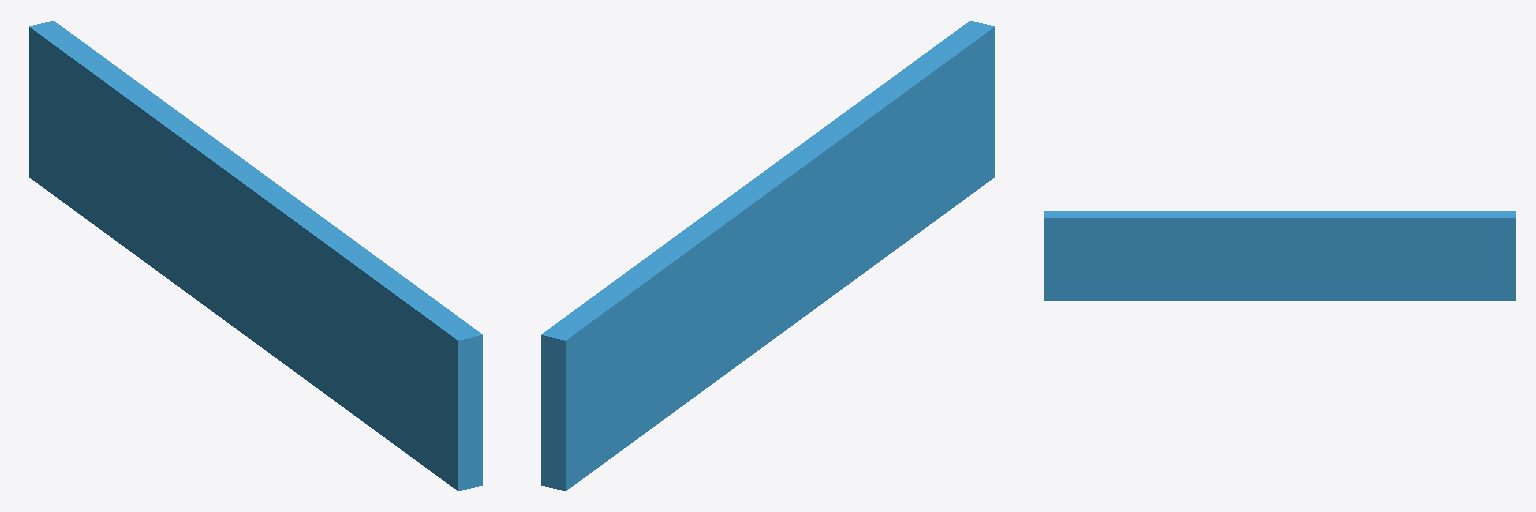
URDF robot description (box_60):
<?xml version="1.0" encoding="utf-8"?>    
    
    <robot name="box_60">
        <link name="box_60">    
            <fem>
                <origin rpy="0.0 0.0 0.0" xyz="0 0 0" />
                <density value="100" />
                <youngs value="1021"/>
                <poissons value="0.3" />
                <damping value="0.0" />
                <attachDistance value="0.01" />
                <tetmesh filename="[local-path]/sim_data/Custom/Custom_mesh/multi_box_1kPa/box_60.tet" />
                <scale value="0.5"/>
            </fem>
        </link>

        <link name="fix_frame">
            <visual>
                <origin xyz="-10.1 0.0 0.0"/>              
                <geometry>
                    <box size="0.005 0.15 0.029037197397459334"/>
                </geometry>
            </visual>
            <collision>
                <origin xyz="-0.1 0.0 0.0"/>              
                <geometry>
                    <box size="0.005 0.15 0.029037197397459334"/>
                </geometry>
            </collision>
            <inertial>
                <mass value="500000"/>
                <inertia ixx="0.05" ixy="0.0" ixz="0.0" iyy="0.05" iyz="0.0" izz="0.05"/>
            </inertial>
        </link>
        
        <joint name = "attach" type = "fixed">
            <origin xyz = "0.0 0.0 0.0" rpy = "0 0 0"/>
            <parent link ="box_60"/>
            <child link = "fix_frame"/>
        </joint>  




    </robot>
    

--- Render facts (derived) ---
Views: 3 orthographic renders of the robot side by side, from view 1: azimuth 30°, elevation 25°; view 2: azimuth 150°, elevation 25°; view 3: azimuth 270°, elevation 25°.
Robot: box_60 — 2 links, 1 joints (1 fixed); root link box_60; default pose: every joint at zero.
Links seen in each view (by area): view 1: fix_frame; view 2: fix_frame; view 3: fix_frame.
Boxes of the visible links, box(x1,y1,x2,y2) form: fix_frame: box(29, 21, 482, 490); fix_frame: box(541, 21, 994, 490); fix_frame: box(1044, 211, 1515, 300).
Bounding box of the posed robot: 0.005 × 0.15 × 0.029 m (x, y, z).
Geometry: primitives only (box / cylinder / sphere), no mesh files.